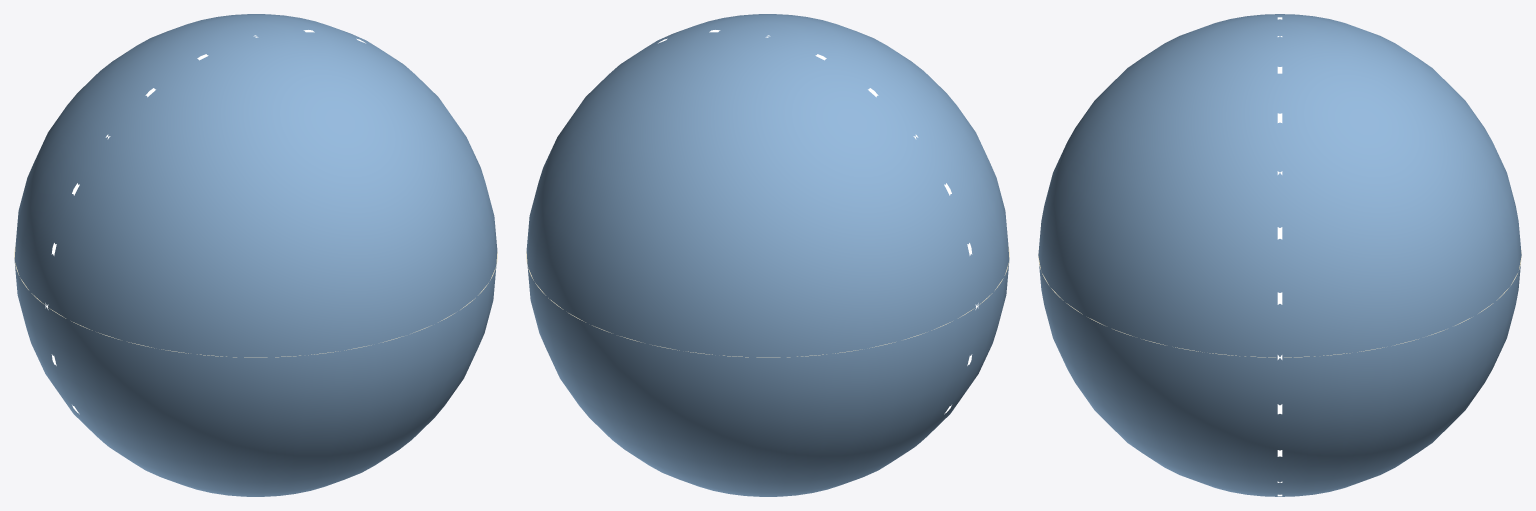
3 renders of one model, left to right at view 1: azimuth 30°, elevation 25°; view 2: azimuth 150°, elevation 25°; view 3: azimuth 270°, elevation 25°, orthographic.
Visible parts, largest first — view 1: sky_dome; view 2: sky_dome; view 3: sky_dome.
Boxes of the visible parts, left/top/right/bottom form: sky_dome: left=14, top=14, right=497, bottom=496; sky_dome: left=526, top=14, right=1009, bottom=496; sky_dome: left=1038, top=14, right=1521, bottom=496.
Size of the model in its own units: 2 by 2 by 2.
